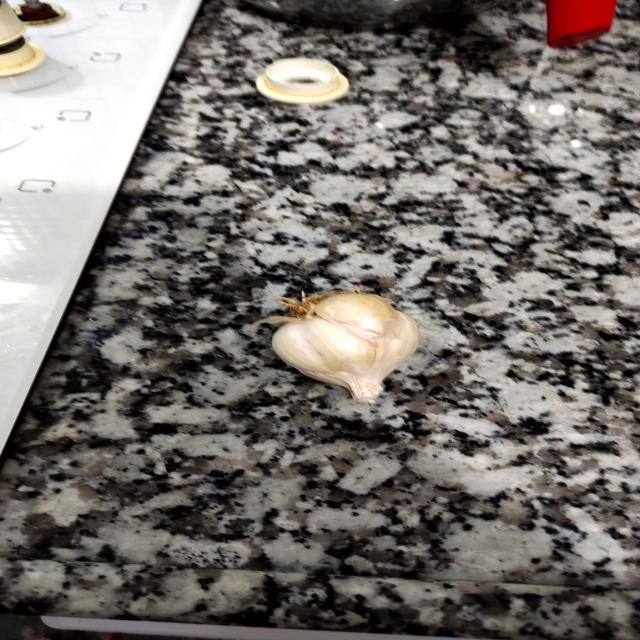garlic: (229, 280, 457, 410)
